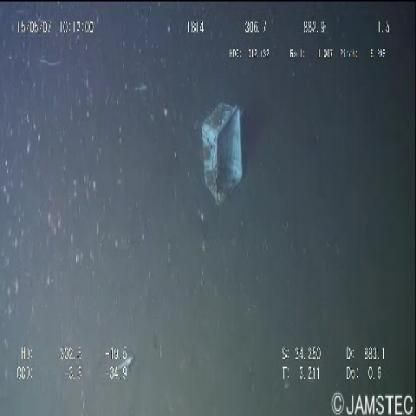Rác: (197, 96, 245, 208)
